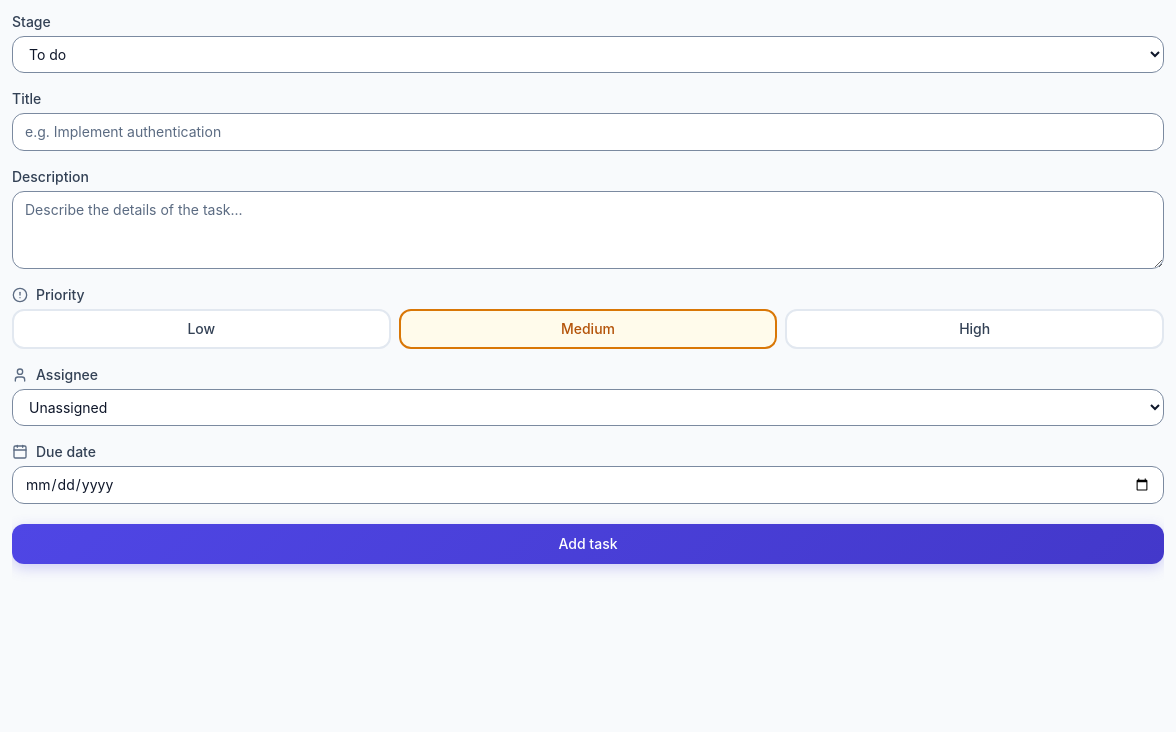
Test case: CreateTaskForm › shows the guest task limit as a readable message
Type "One more" into the field labelled "Title". click: (588, 132)
box: [12,113,1164,151]
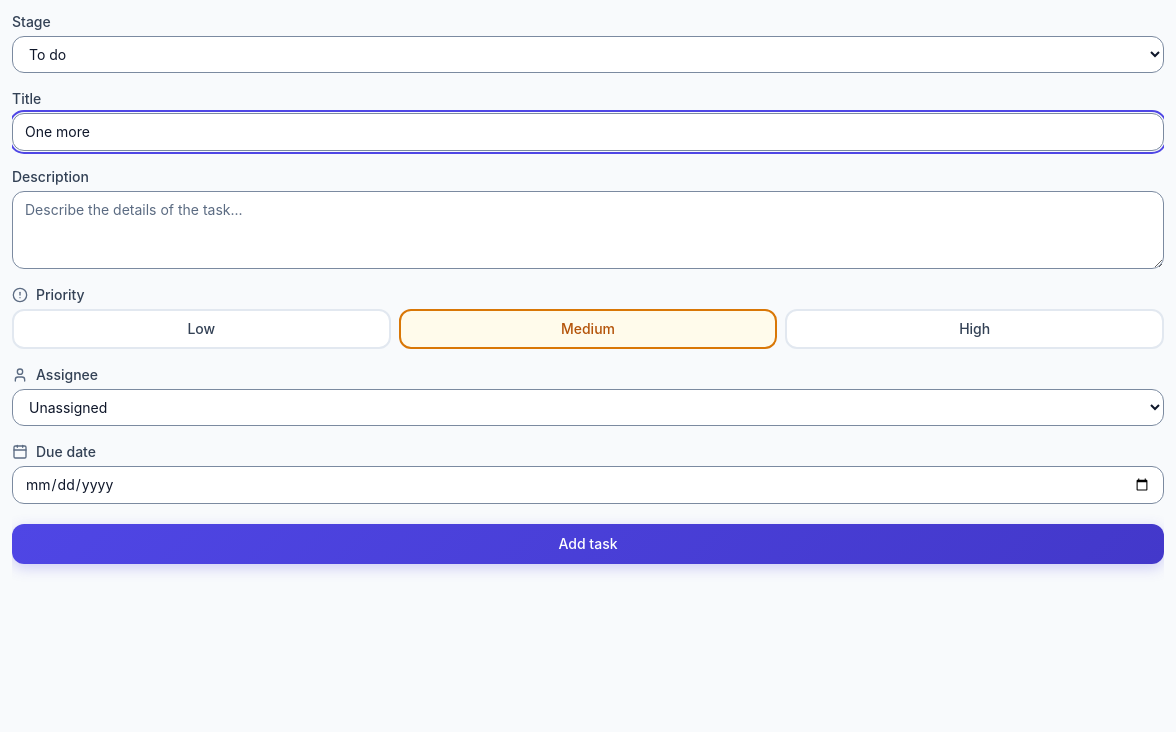
Click the button "Add task". click: (588, 544)
box: [12,524,1164,564]
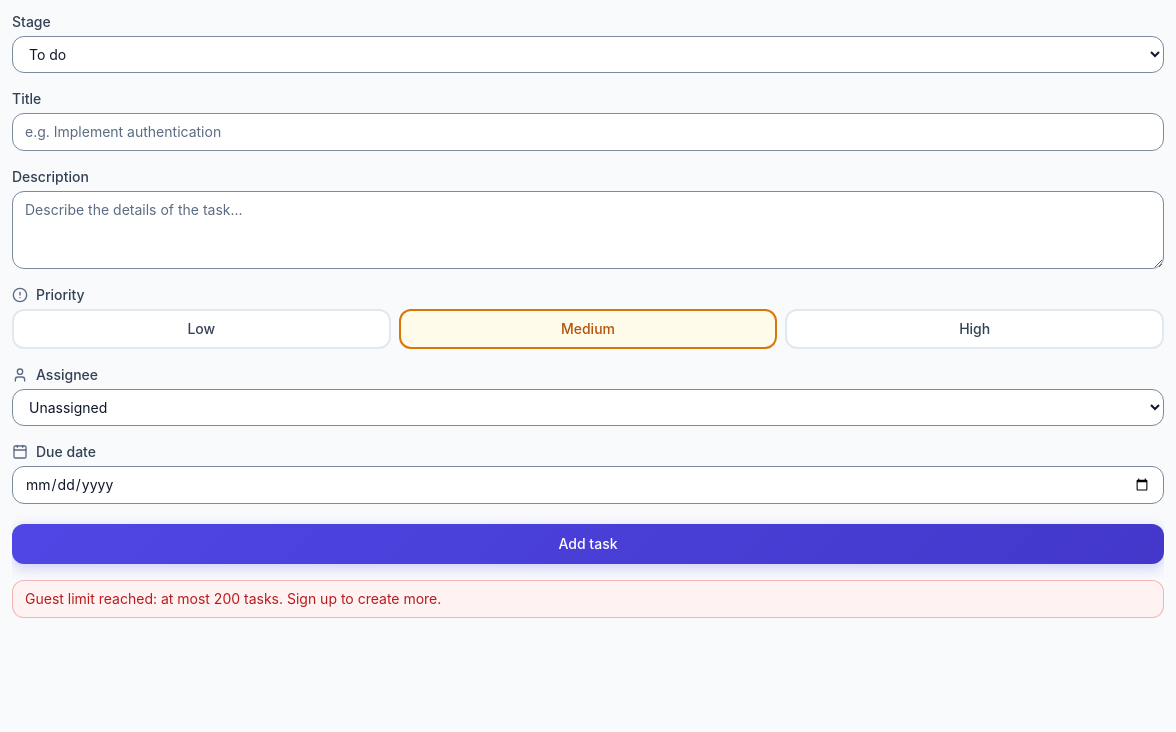
Expected: the message reads "Guest limit reached: at most 200 tasks. Sign up to create more.", [25,590,441,607]
